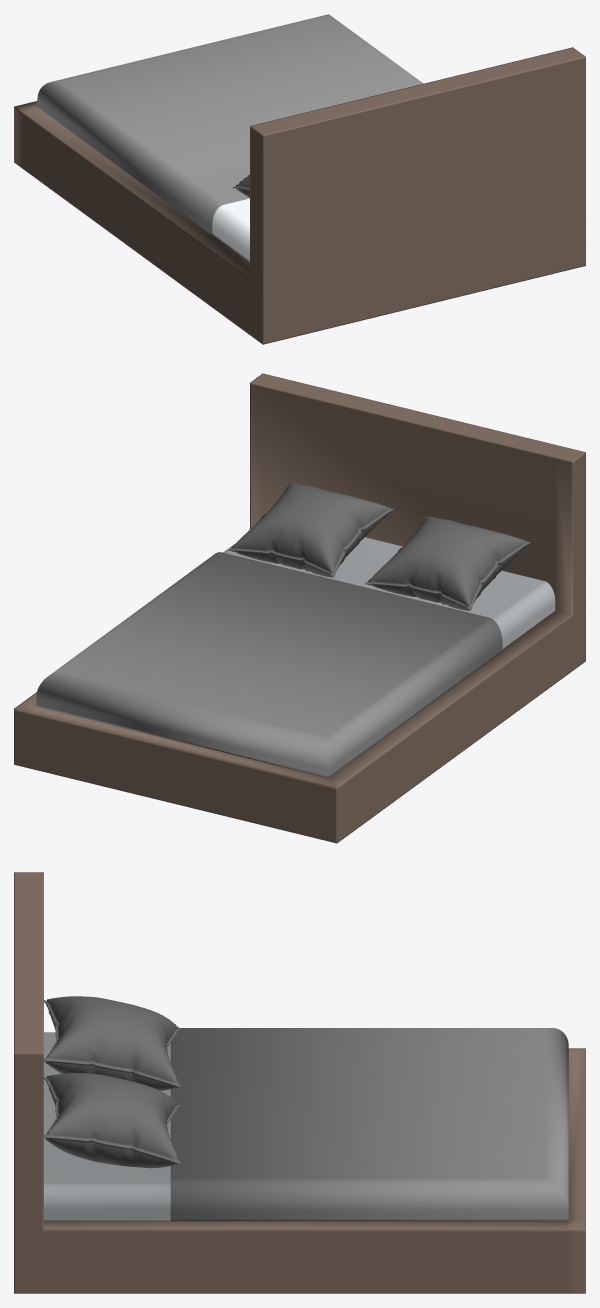
Rendered from Kasur.fbx.
3 renders of one model, top to bottom at view 1: azimuth 30°, elevation 25°; view 2: azimuth 150°, elevation 25°; view 3: azimuth 270°, elevation 25°, orthographic. The views are drawn at different scales.
Parts seen in each view (by area): view 1: Cube.010; view 2: Cube.010, Cube.012, Cube.011; view 3: Cube.010, Cube.012, Cube.011.
Part boxes in pixels (box(x1,y1,x2,y2)): Cube.010: box(14, 14, 585, 344); Cube.010: box(14, 373, 585, 843); Cube.012: box(228, 483, 393, 577); Cube.011: box(365, 516, 530, 610); Cube.010: box(14, 872, 585, 1293); Cube.012: box(44, 1073, 181, 1168); Cube.011: box(44, 996, 181, 1090).
Size of the model in its own units: 826 by 511 by 1102.
